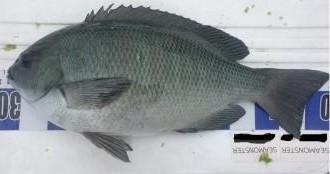fish: (7, 4, 329, 162)
